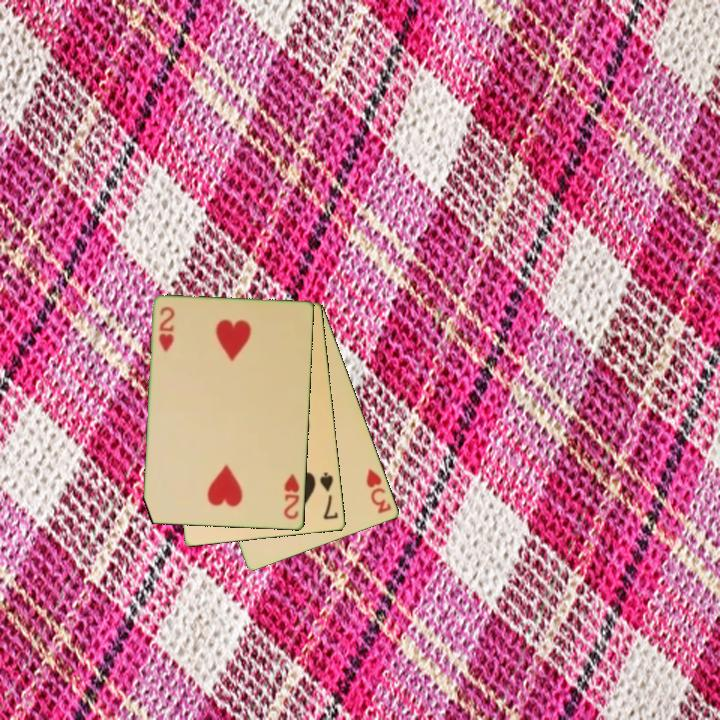2h: (281, 471, 303, 522), (156, 304, 178, 355)
3h: (363, 465, 395, 517)
7s: (316, 469, 341, 522)
